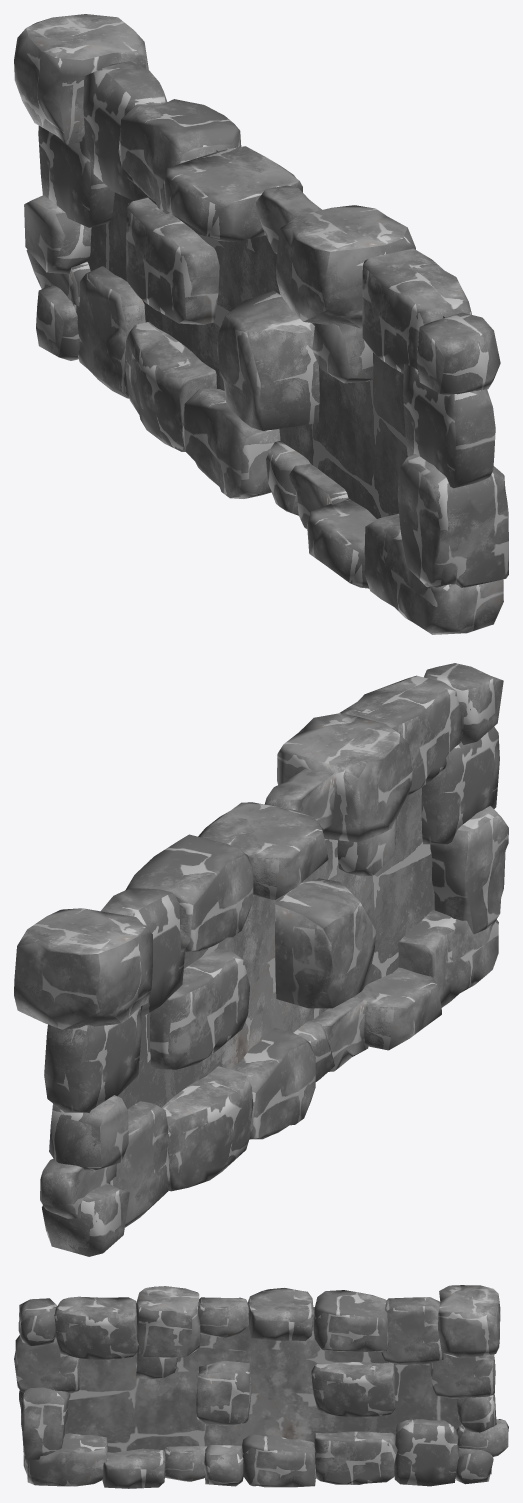
File: Half_Wall_with_Rocks.fbx
3 renders of one model, top to bottom at view 1: azimuth 30°, elevation 25°; view 2: azimuth 150°, elevation 25°; view 3: azimuth 270°, elevation 25°, orthographic. The views are drawn at different scales.
Parts seen in each view (by area): view 1: rock_5.002, Half_Wall_02; view 2: rock_5.002, Half_Wall_02; view 3: rock_5.002, Half_Wall_02.
Boxes of the visible parts, <box> form: rock_5.002: <box>14,14,508,634</box>; Half_Wall_02: <box>87,150,444,518</box>; rock_5.002: <box>14,663,508,1256</box>; Half_Wall_02: <box>67,787,434,1247</box>; rock_5.002: <box>14,1285,508,1488</box>; Half_Wall_02: <box>54,1307,491,1474</box>.
Bounding box in the file's own units: 0.8476 × 2.22 × 5.36.
